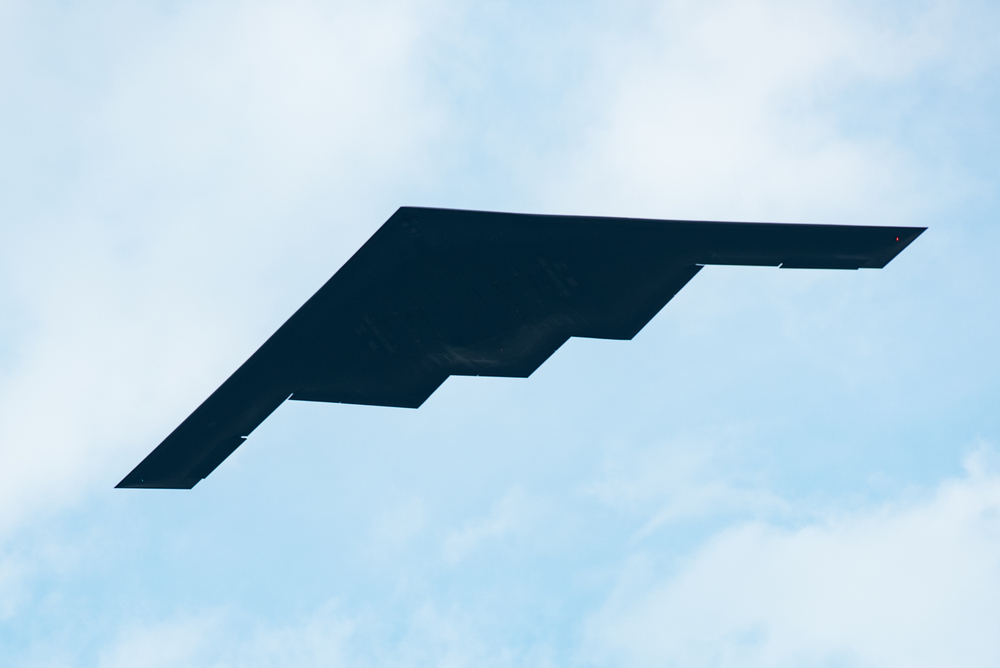B2: (113, 205, 930, 490)
